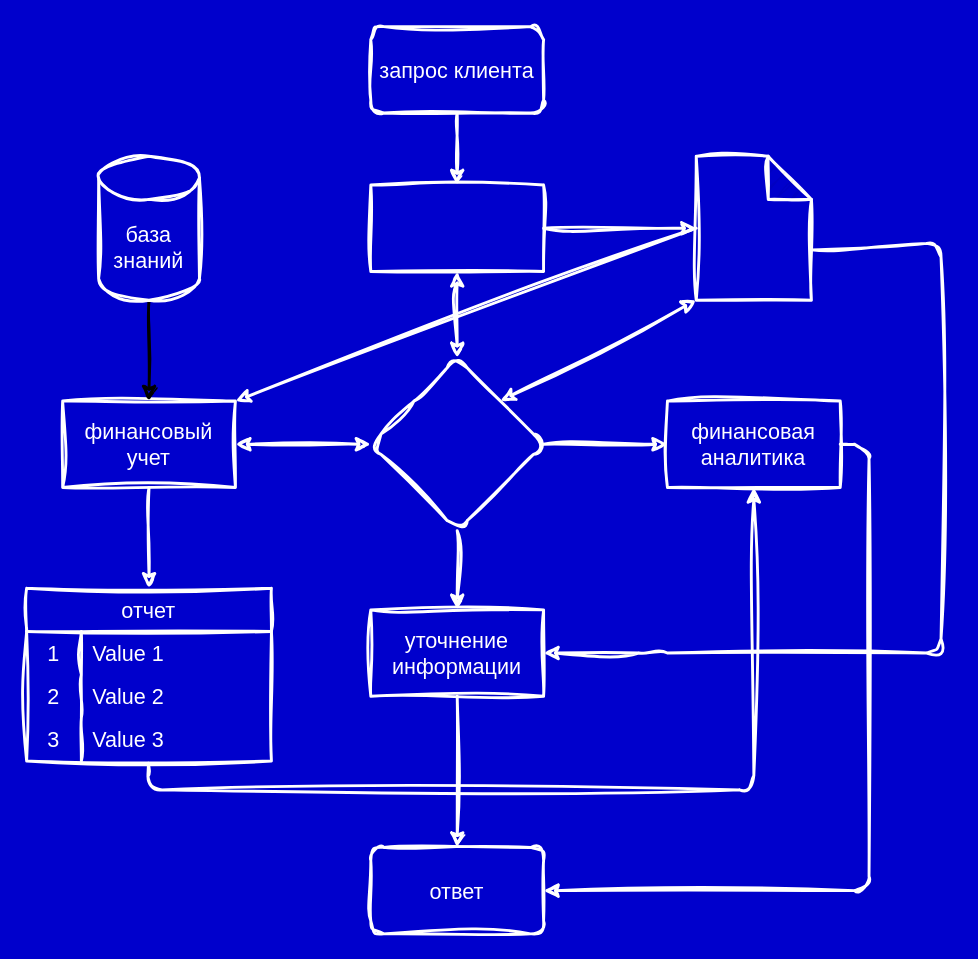
Some shapes in this 978 by 959 pixel diagram are drawn without their labels. Each missing label, with the centre of its shape:
"роутер" goes at point 456,443.
"саммари" goes at point 753,227.
"саммаризатор" goes at point 456,227.
